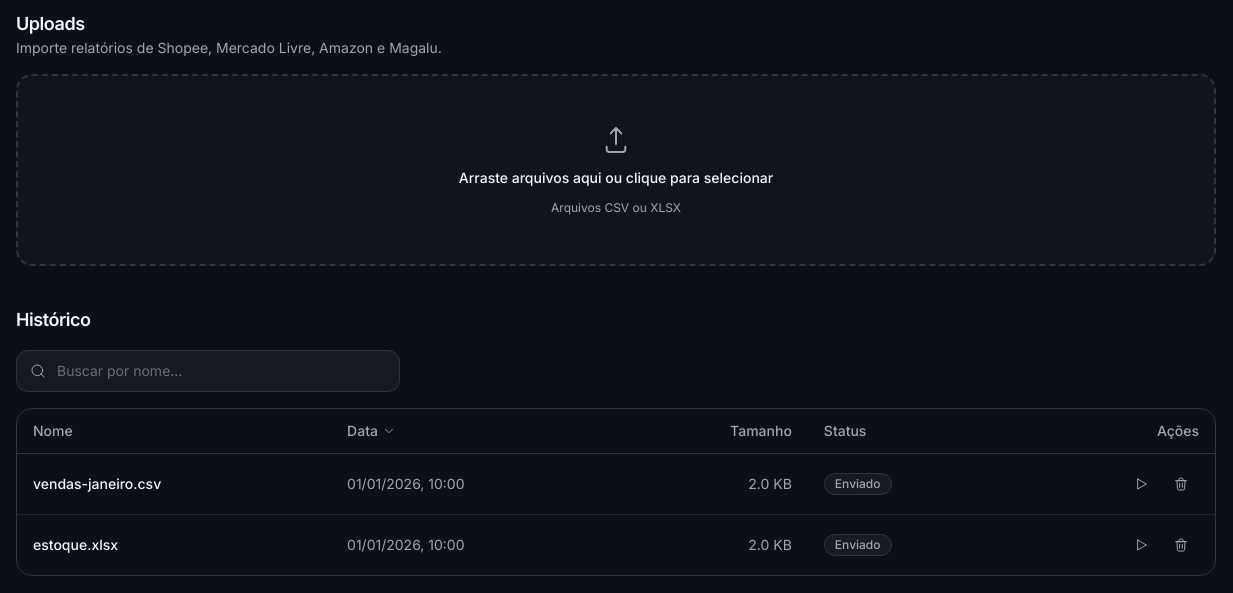
Scenario: UploadsPage › filters the table by filename via the search field
Expected: the link "vendas-janeiro.csv" is shown, [33,475,161,492]
Type "vendas" into the search field named "Buscar por nome do arquivo".
click(208, 371); type("vendas")  # box [16,350,400,392]
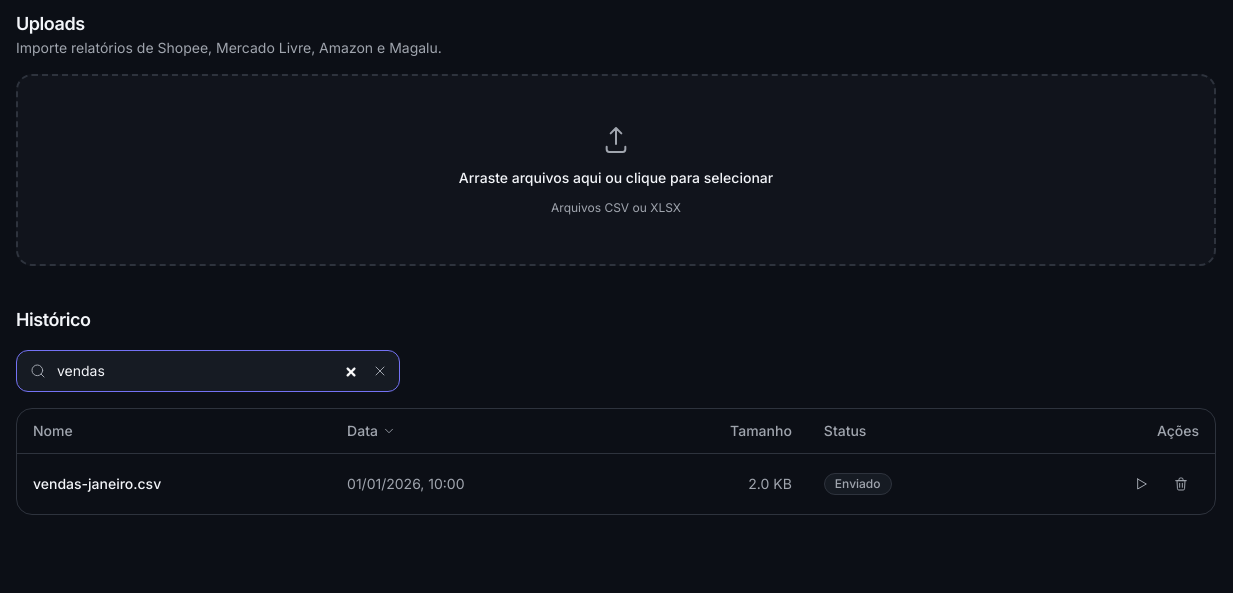
Expected: the link "vendas-janeiro.csv" is shown, [33,475,161,492]
Expected: the link "estoque.xlsx" is gone
